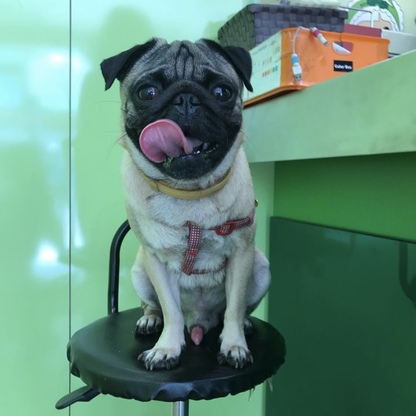Pug: (94, 33, 279, 373)
